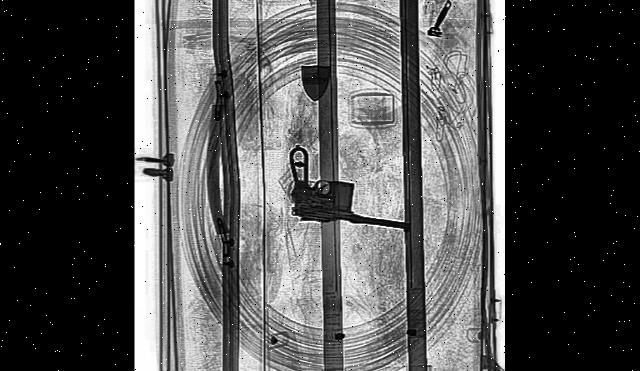Gun: (286, 144, 412, 234)
